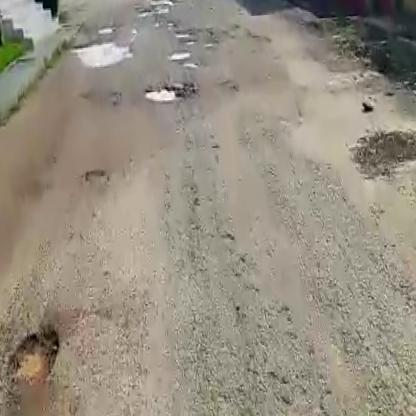pothole: (8, 325, 59, 388), (76, 38, 134, 68), (141, 81, 189, 107), (170, 50, 199, 63)
